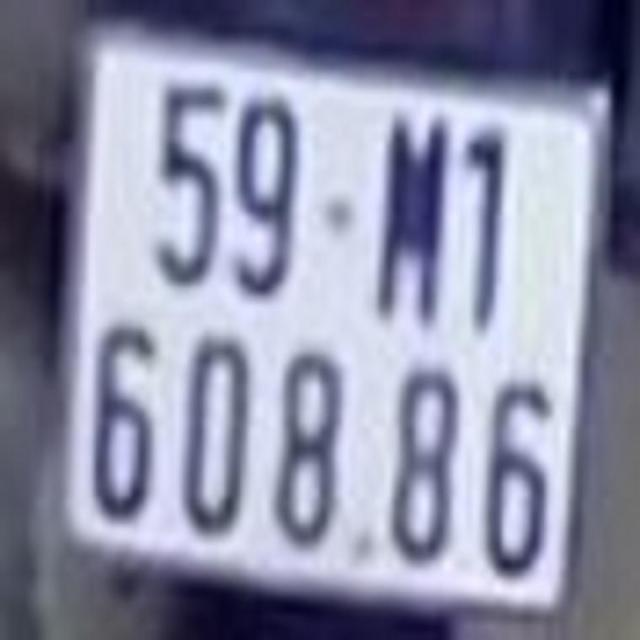0: (181, 334, 247, 534)
1: (462, 130, 507, 335)
5: (150, 83, 224, 279)
6: (88, 318, 158, 516), (484, 372, 549, 580)
8: (263, 338, 336, 543), (391, 368, 452, 568)
9: (232, 96, 300, 299)
M: (371, 122, 448, 329)
